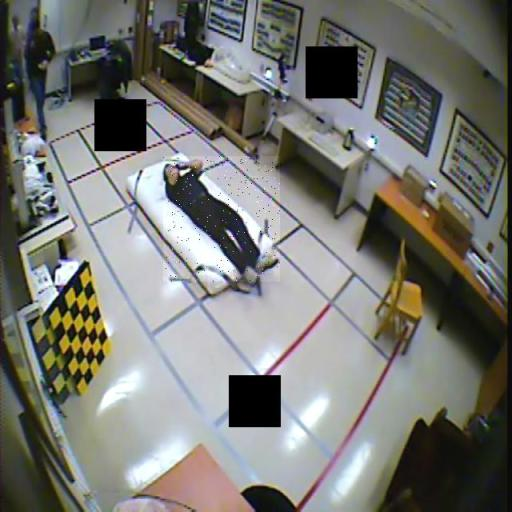Fall: (163, 156, 280, 282)
